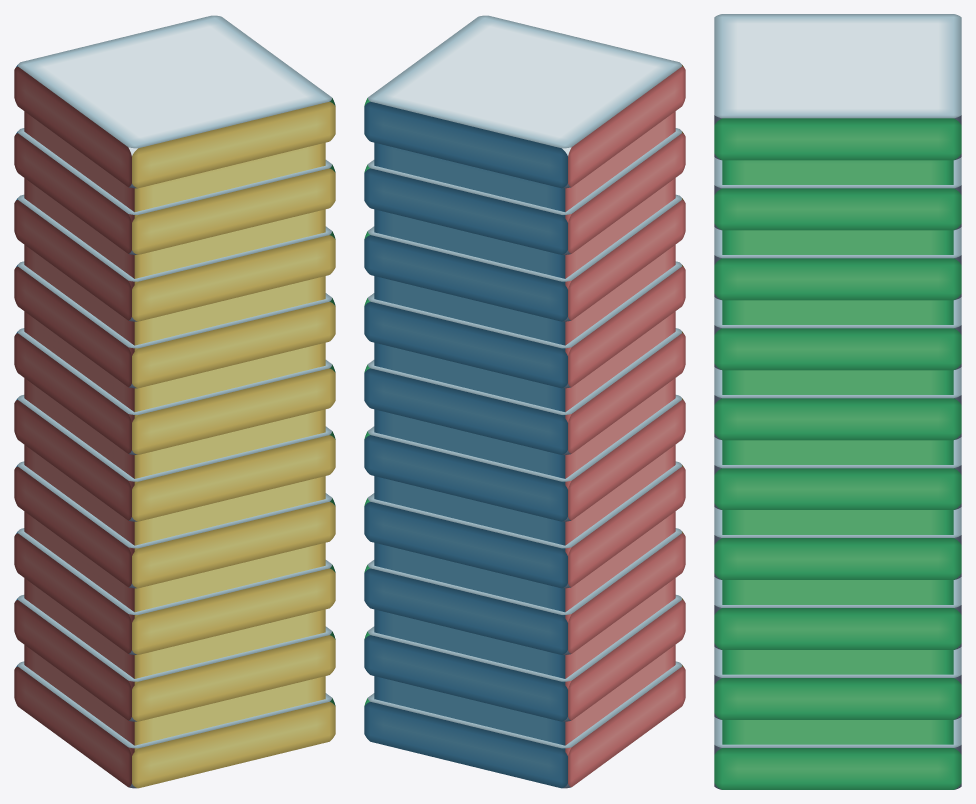
The model's file is building1.fbx.
3 renders of one model, left to right at view 1: azimuth 30°, elevation 25°; view 2: azimuth 150°, elevation 25°; view 3: azimuth 270°, elevation 25°, orthographic. The views are drawn at different scales.
Visible parts, largest first — view 1: level; view 2: level; view 3: level.
Part boxes in pixels (box(x1,y1,x2,y2)): level: box(14, 15, 335, 788); level: box(364, 15, 685, 788); level: box(714, 14, 961, 789).
Size of the model in its own units: 100 by 300 by 100.
2 materials, 2 textured.
